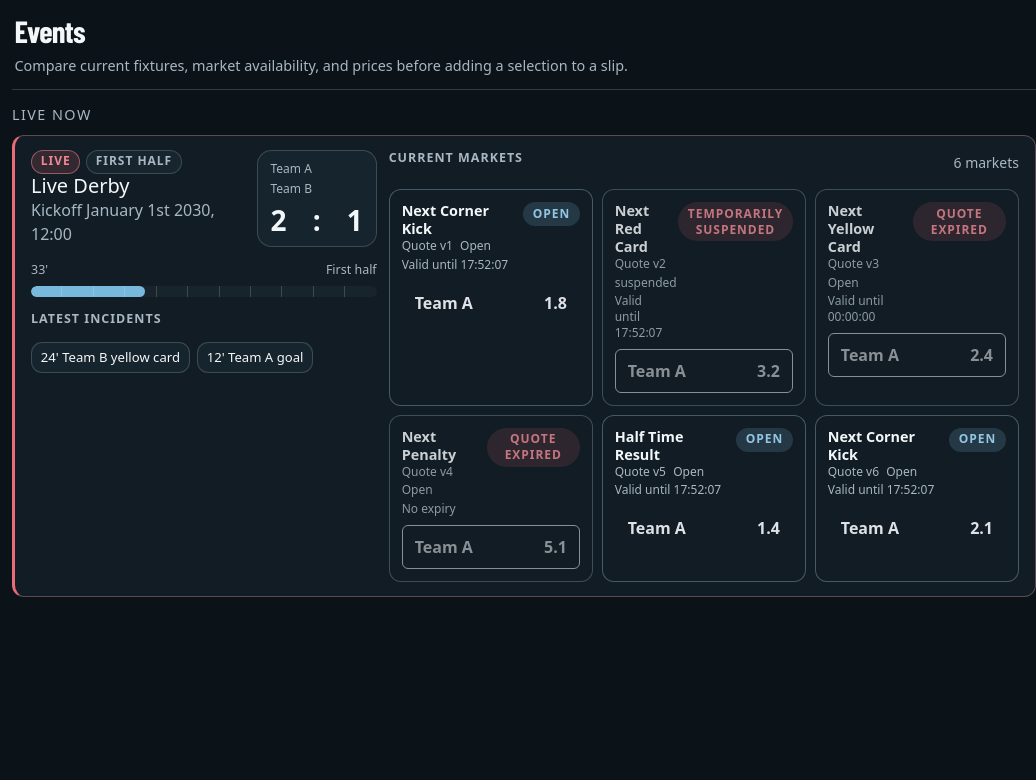
Test case: EventList › shows sanitized adjacent feedback when a live selection placement fails
Click the button with aria-label "Select Next Corner Kick: Team A at 1.8" at (491, 303), box [402,281,580,325]
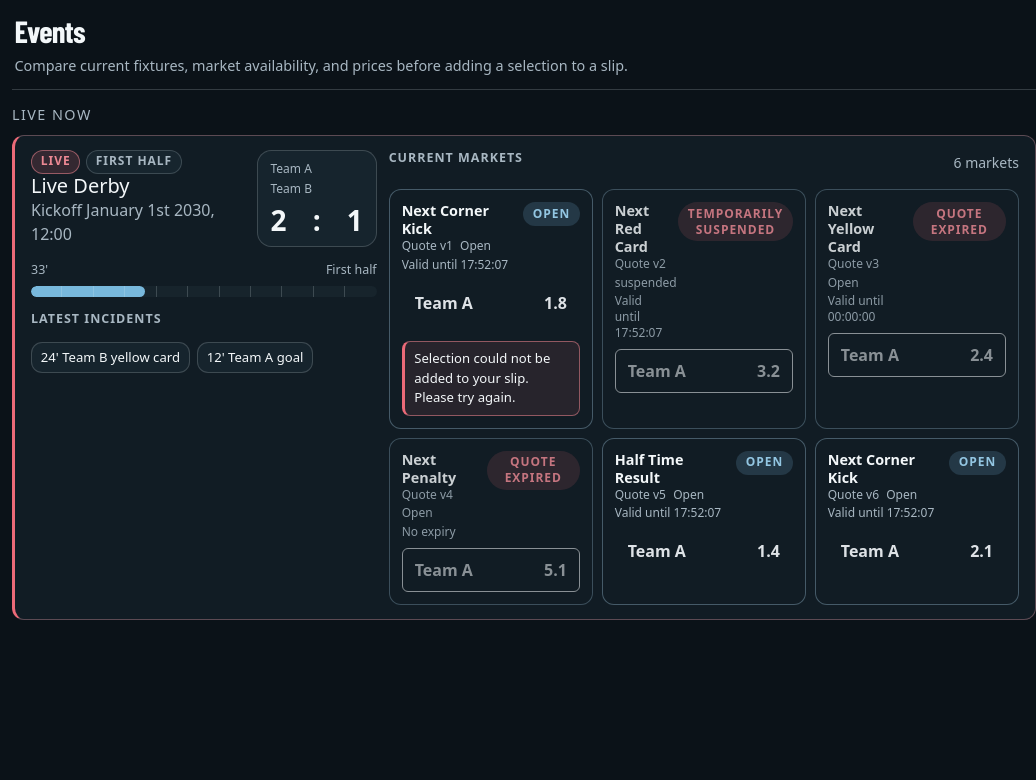
Expected: the message reads "Selection could not be added to your slip. Please try again.", [414,349,550,406]
